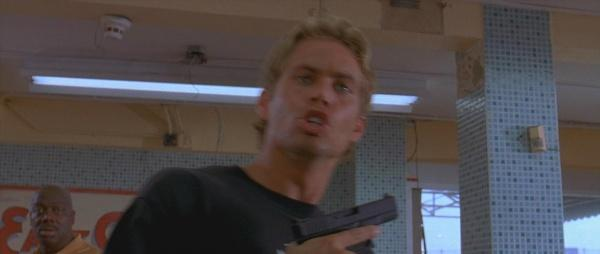Gun: (297, 194, 400, 250)
